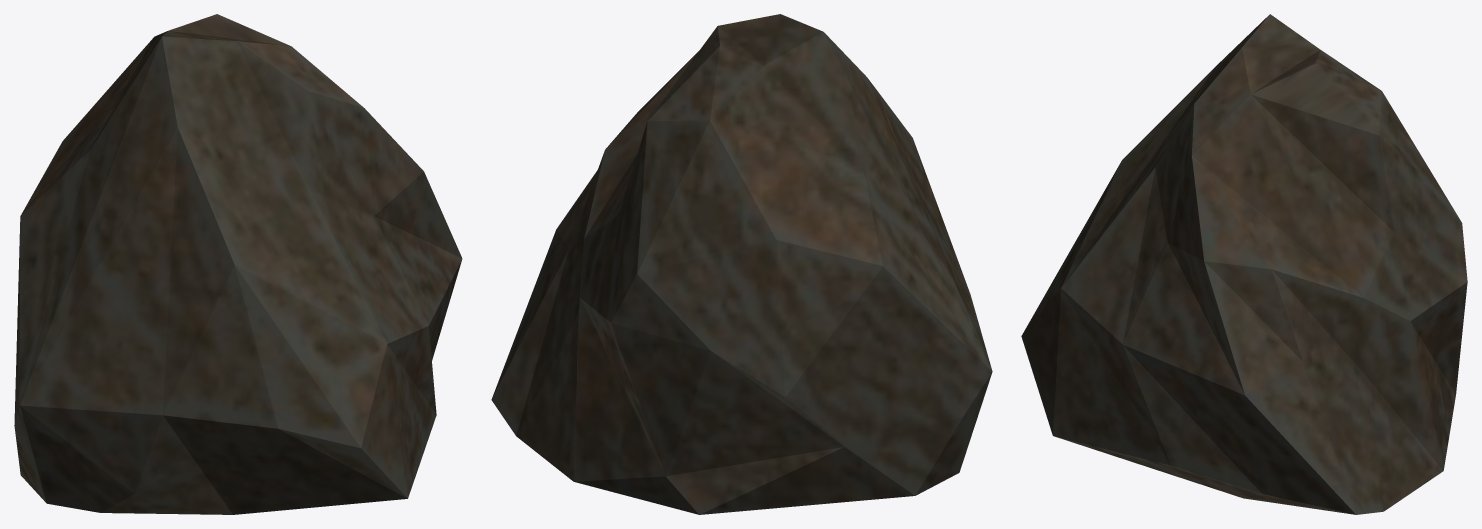
The model's file is piedra_stone_12.glb.
The picture shows the model from 3 angles, left to right: view 1: azimuth 30°, elevation 25°; view 2: azimuth 150°, elevation 25°; view 3: azimuth 270°, elevation 25°; orthographic projection. The views are drawn at different scales.
Visible parts, largest first — view 1: Stone_12; view 2: Stone_12; view 3: Stone_12.
Boxes of the visible parts, left/top/right/bottom form: Stone_12: left=14, top=14, right=462, bottom=514; Stone_12: left=491, top=14, right=992, bottom=514; Stone_12: left=1021, top=14, right=1467, bottom=514.
Size of the model in its own units: 1 by 0.9128 by 0.9529.
1 material, 1 textured.
